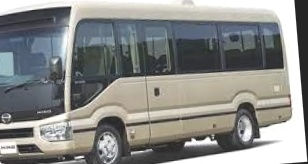bus: (0, 0, 296, 164)
